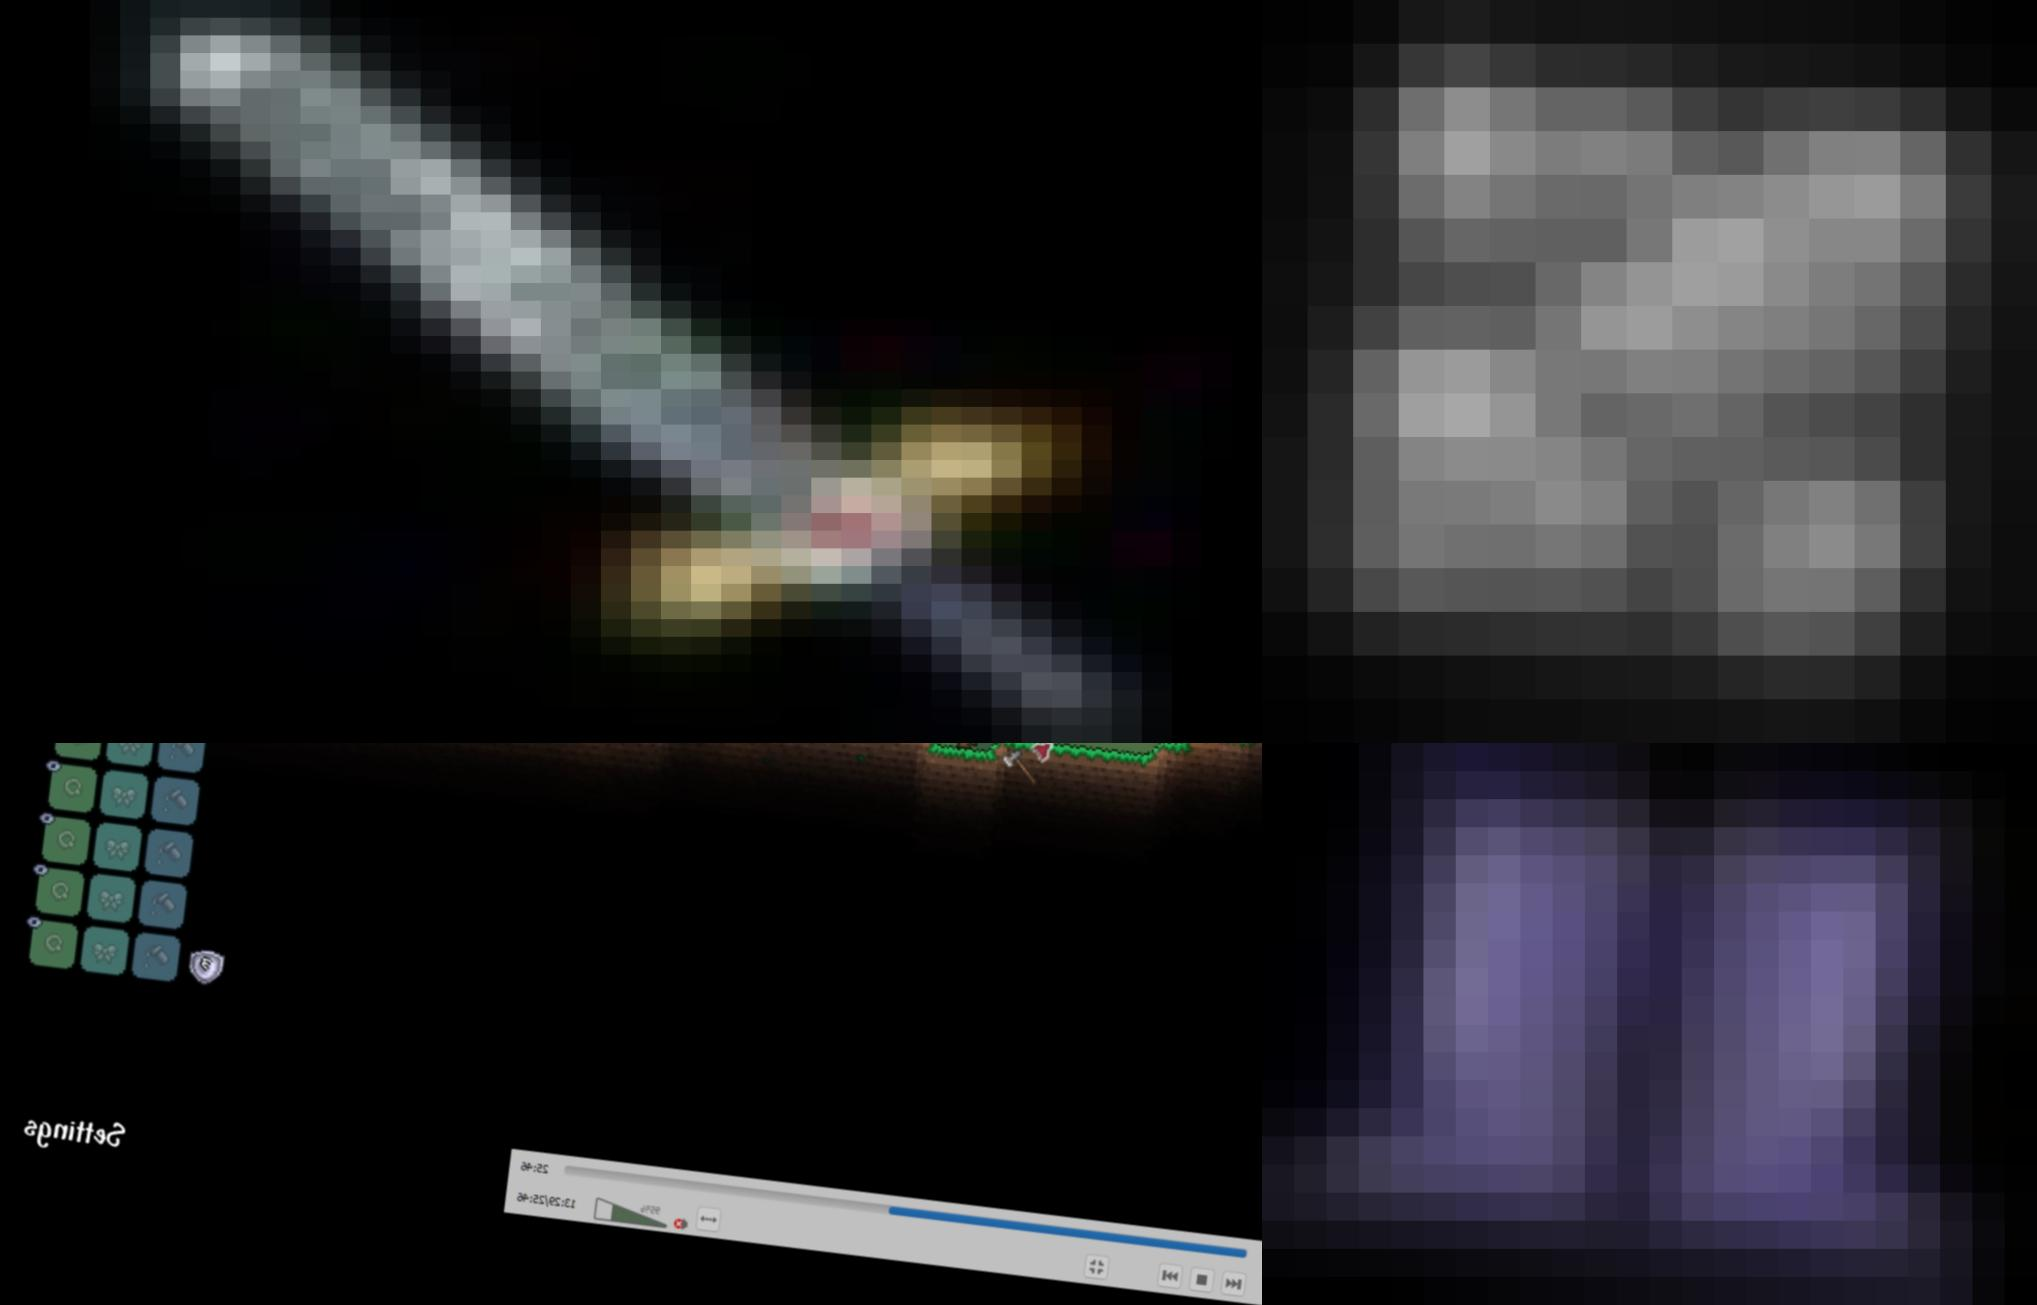legs: (1262, 742, 2037, 1305)
stone: (1262, 0, 2037, 742)
sword: (0, 0, 1262, 742)
